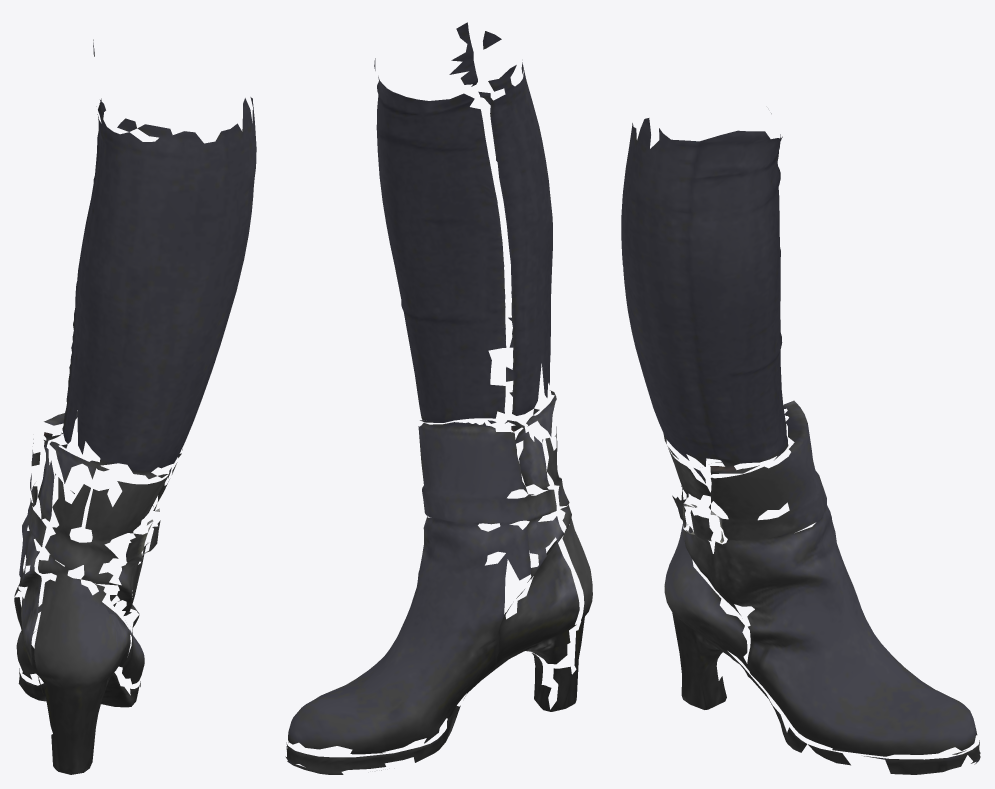
File: chicaunam_piernader.glb
3 renders of one model, left to right at view 1: azimuth 30°, elevation 25°; view 2: azimuth 150°, elevation 25°; view 3: azimuth 270°, elevation 25°, orthographic. The views are drawn at different scales.
Visible parts, largest first — view 1: Object_5.002; view 2: Object_5.002; view 3: Object_5.002.
Boxes of the visible parts, x1,y1,x2,y2 form: Object_5.002: (14,39,256,774); Object_5.002: (285,22,592,774); Object_5.002: (621,113,980,774).
Size of the model in its own units: 0.7234 by 2.4 by 1.1.
1 material, 1 textured.
